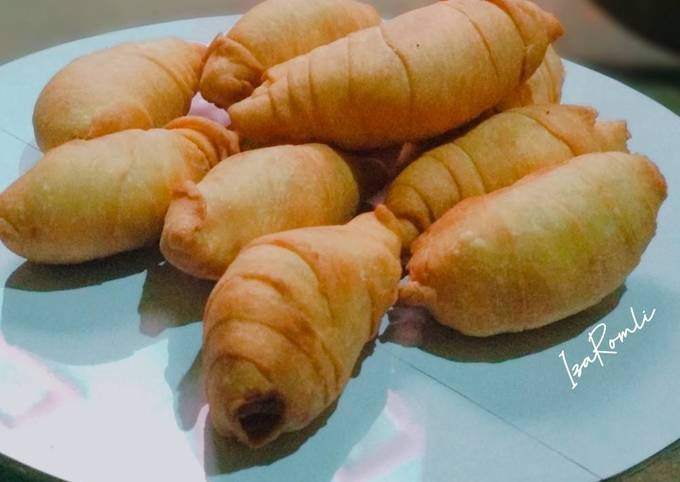pisang_molen: (400, 151, 667, 337), (202, 207, 404, 448), (228, 0, 562, 145), (0, 99, 234, 271), (28, 19, 210, 154)
